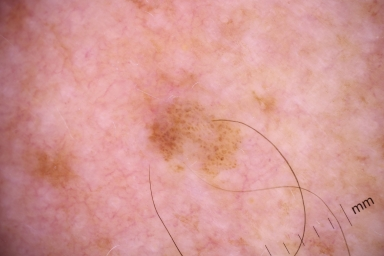melanoma: (204, 106, 241, 179), (151, 99, 193, 159)
